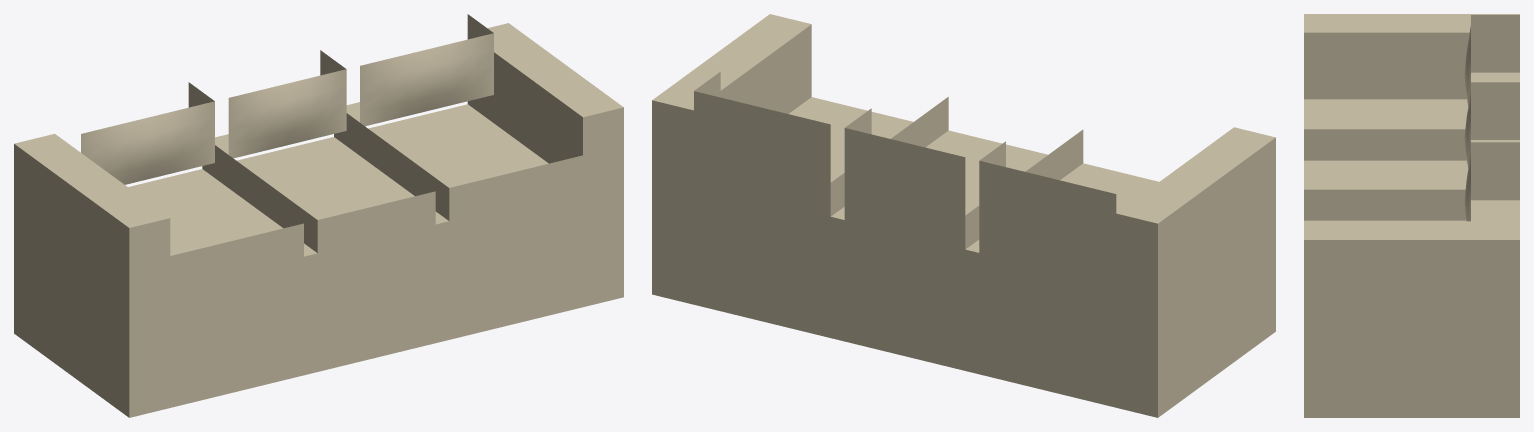
File: ikea-ektorp-3.glb
3 renders of one model, left to right at view 1: azimuth 30°, elevation 25°; view 2: azimuth 150°, elevation 25°; view 3: azimuth 270°, elevation 25°, orthographic. The views are drawn at different scales.
Bounding box in the file's own units: 2.18 × 0.88 × 0.88.
